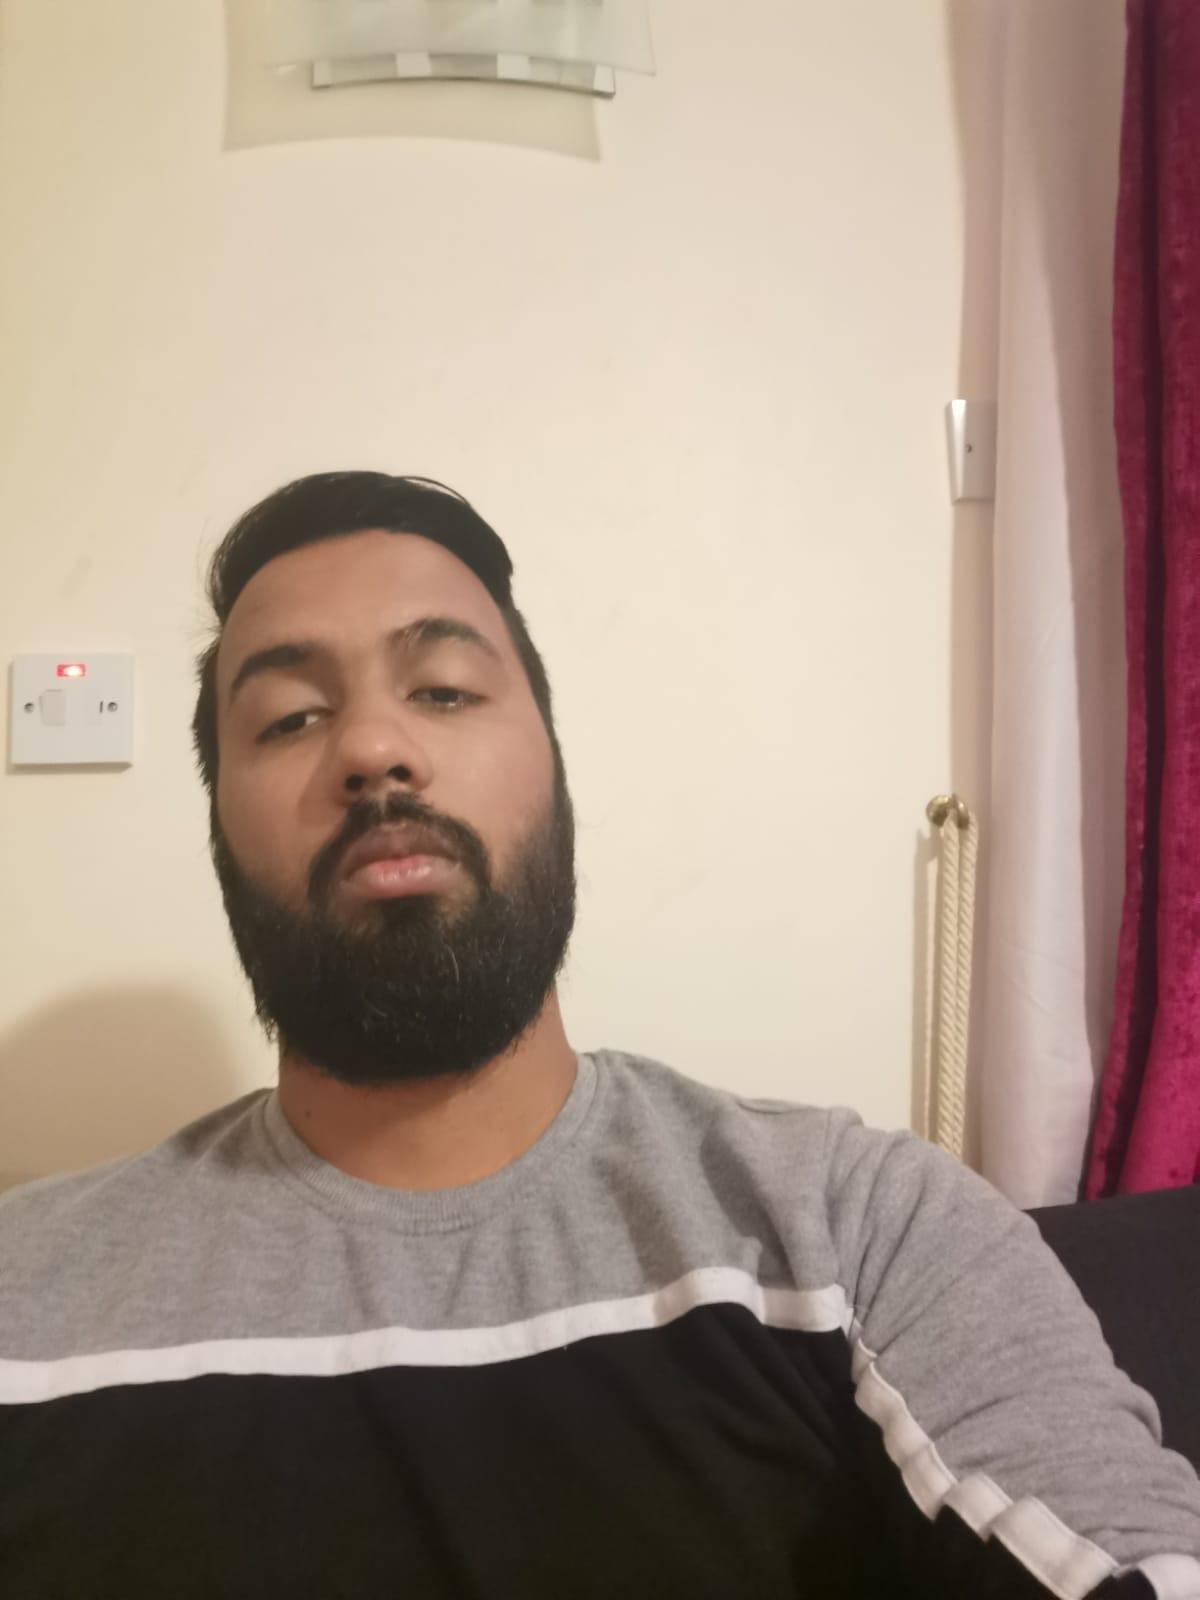Half Asleep: (217, 661, 531, 751)
